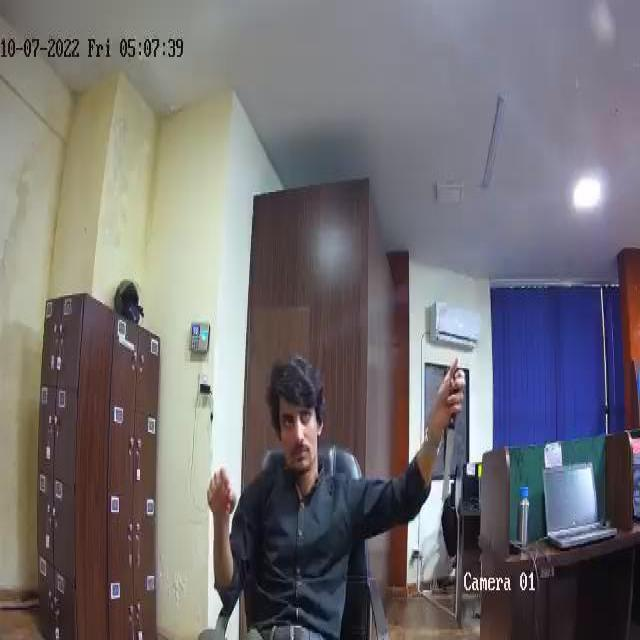weapon: (439, 370, 460, 501)
